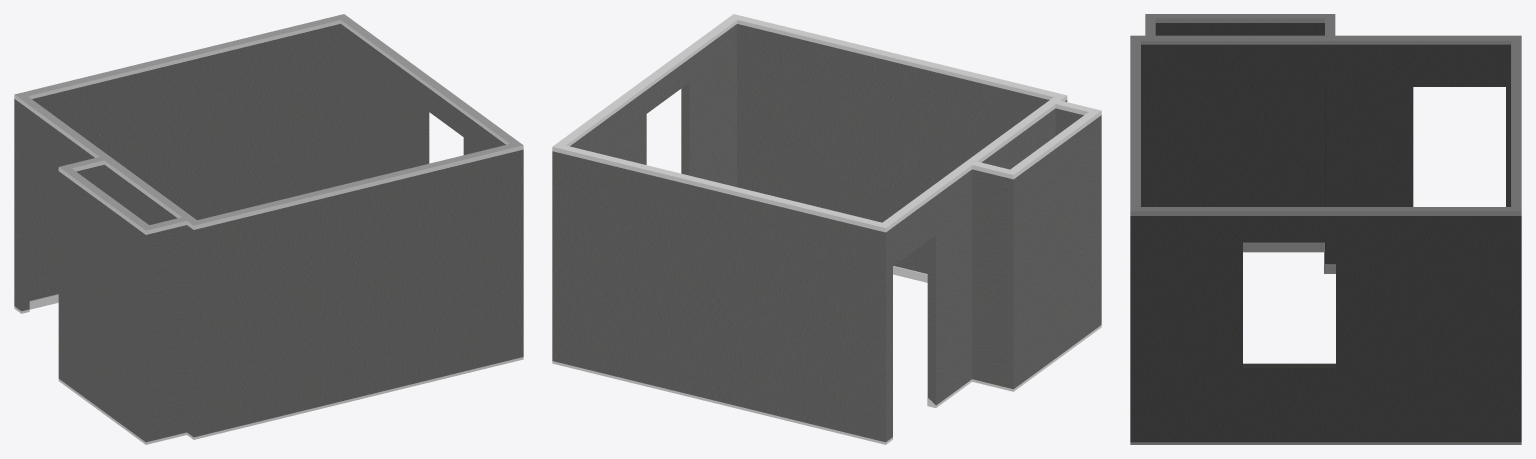
File: FP310:StandardWallSize_008_ff25eb45.obj
The picture shows the model from 3 angles, left to right: view 1: azimuth 30°, elevation 25°; view 2: azimuth 150°, elevation 25°; view 3: azimuth 270°, elevation 25°; orthographic projection. The views are drawn at different scales.
Parts seen in each view (by area): view 1: FP310:StandardWallSize.008_ff25eb45; view 2: FP310:StandardWallSize.008_ff25eb45; view 3: FP310:StandardWallSize.008_ff25eb45.
Boxes of the visible parts, x1,y1,x2,y2 form: FP310:StandardWallSize.008_ff25eb45: (14,14,523,444); FP310:StandardWallSize.008_ff25eb45: (552,14,1101,444); FP310:StandardWallSize.008_ff25eb45: (1130,14,1521,444).
Size of the model in its own units: 4.53 by 2.5 by 3.79.
